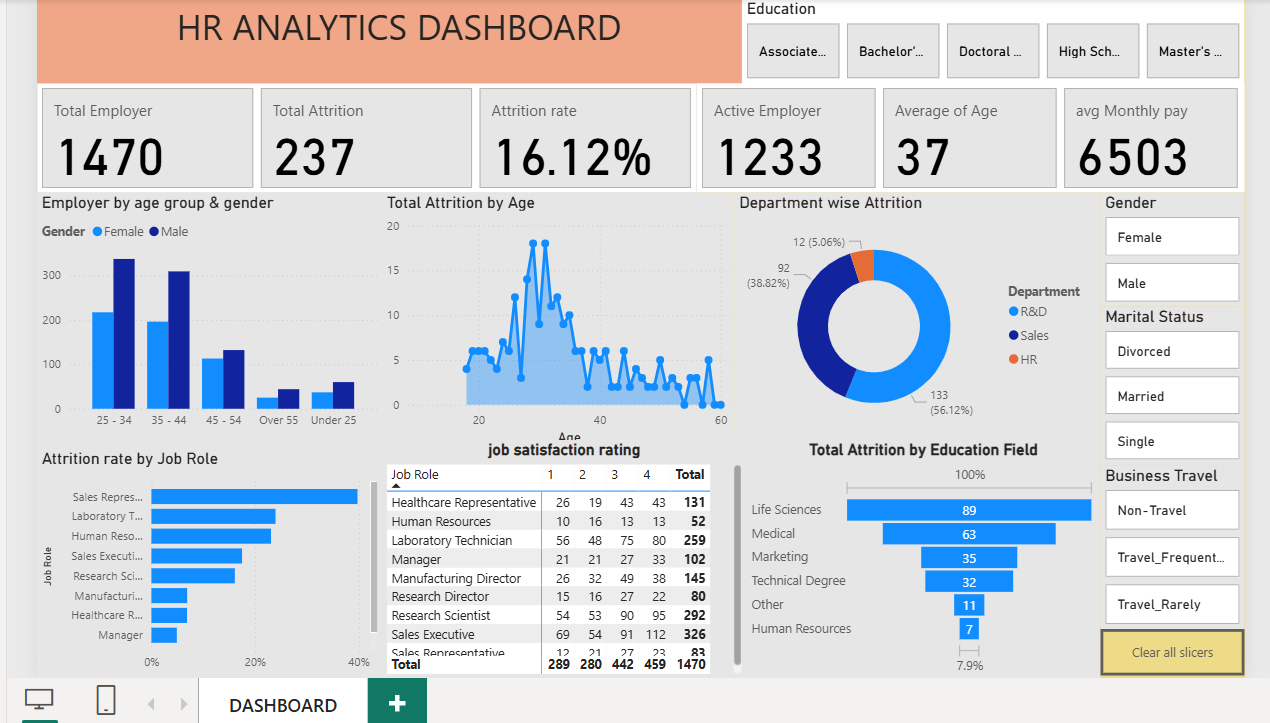

The dashboard page shown, as its layout file describes it:
{"tool":"powerbi","page":{"name":"DASHBOARD","canvas":[1280,720],"ordinal":0},"visuals":[{"type":"cardVisual","fields":{"Data":["HR data.Total Employer","HR data.Total Attrition","HR data.Attrition rate"]},"box":[0,89.1,699.9,116.1],"z":0},{"type":"cardVisual","fields":{"Data":["HR data.Active Employer","Avg(HR data.Age)","Avg(HR data.Monthly Income)"]},"box":[699.9,89.1,580.6,116.1],"z":1000},{"type":"clusteredColumnChart","title":"Employer by age group & gender","fields":{"Category":["HR data.Age Group"],"Y":["HR data.Total Employer"],"Series":["HR data.Gender"]},"box":[0,205.2,365.8,272],"z":2000},{"type":"areaChart","fields":{"Category":["HR data.Age"],"Y":["HR data.Total Attrition"]},"box":[365.8,205.2,373.8,272],"z":3000},{"type":"donutChart","title":"Department wise Attrition","fields":{"Category":["HR data.Department"],"Y":["HR data.Total Attrition"]},"box":[739.6,205.2,388.1,262.5],"z":4000},{"type":"clusteredBarChart","fields":{"Category":["HR data.Job Role"],"Y":["HR data.Attrition rate"]},"box":[0,477.2,365.8,243.4],"z":5000},{"type":"pivotTable","title":"job satisfaction rating","fields":{"Rows":["HR data.Job Role"],"Columns":["HR data.Job Satisfaction"],"Values":["HR data.Total Employer"]},"box":[365.8,467.6,386.5,252.9],"z":6000},{"type":"funnel","fields":{"Category":["HR data.Education Field"],"Y":["HR data.Total Attrition"]},"box":[752.4,467.6,375.4,252.9],"z":7000},{"type":"advancedSlicerVisual","fields":{"Values":["HR data.Gender"]},"box":[1127.7,205.2,152.7,120.9],"z":8000},{"type":"advancedSlicerVisual","fields":{"Values":["HR data.Marital Status"]},"box":[1127.7,326.1,152.7,168.6],"z":9000},{"type":"advancedSlicerVisual","fields":{"Values":["HR data.Business Travel"]},"box":[1127.7,494.7,152.7,173.4],"z":10000},{"type":"advancedSlicerVisual","fields":{"Values":["HR data.Education"]},"box":[747.6,0,532.9,89.1],"z":11000},{"type":"actionButton","box":[1127.7,668.1,152.7,49.3],"z":12000},{"type":"textbox","box":[0,0,747.6,89.1],"z":13000}]}

Visuals, with their boxes on the page's 1280x720 design canvas (x1, y1, x2, y2). These are canvas units, not pixel positions in the 1270x723 screenshot, which may show the page scaled, cropped or inside an application window:
cardVisual - HR data.Total Employer x HR data.Total Attrition: (x1=0, y1=89, x2=700, y2=205)
cardVisual - HR data.Active Employer x Avg(HR data.Age): (x1=700, y1=89, x2=1280, y2=205)
"Employer by age group & gender" clusteredColumnChart: (x1=0, y1=205, x2=366, y2=477)
areaChart - HR data.Age x HR data.Total Attrition: (x1=366, y1=205, x2=740, y2=477)
"Department wise Attrition" donutChart: (x1=740, y1=205, x2=1128, y2=468)
clusteredBarChart - HR data.Job Role x HR data.Attrition rate: (x1=0, y1=477, x2=366, y2=721)
"job satisfaction rating" pivotTable: (x1=366, y1=468, x2=752, y2=720)
funnel - HR data.Education Field x HR data.Total Attrition: (x1=752, y1=468, x2=1128, y2=720)
advancedSlicerVisual - HR data.Gender: (x1=1128, y1=205, x2=1280, y2=326)
advancedSlicerVisual - HR data.Marital Status: (x1=1128, y1=326, x2=1280, y2=495)
advancedSlicerVisual - HR data.Business Travel: (x1=1128, y1=495, x2=1280, y2=668)
advancedSlicerVisual - HR data.Education: (x1=748, y1=0, x2=1280, y2=89)
actionButton: (x1=1128, y1=668, x2=1280, y2=717)
textbox: (x1=0, y1=0, x2=748, y2=89)
